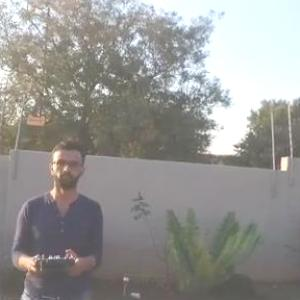follow: (6, 135, 106, 299)
